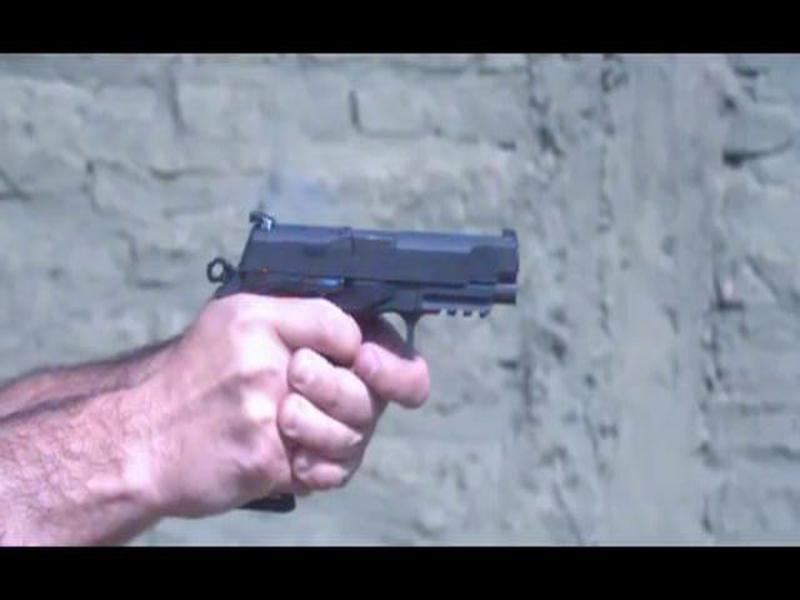Pistola: (207, 184, 550, 391)
